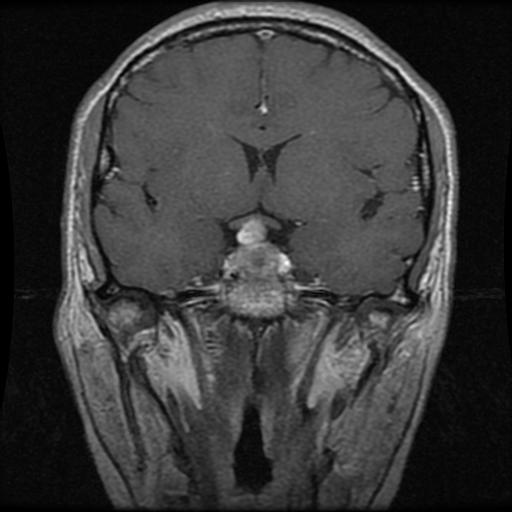Pituirity_tumour: (226, 217, 290, 281)
